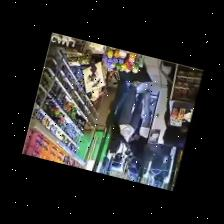person: (110, 80, 143, 167), (130, 90, 152, 169), (163, 80, 188, 146)
